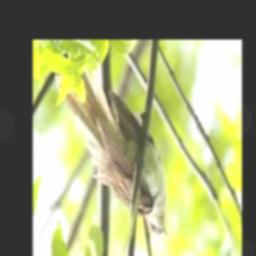Cuckoo: (55, 70, 170, 240)
